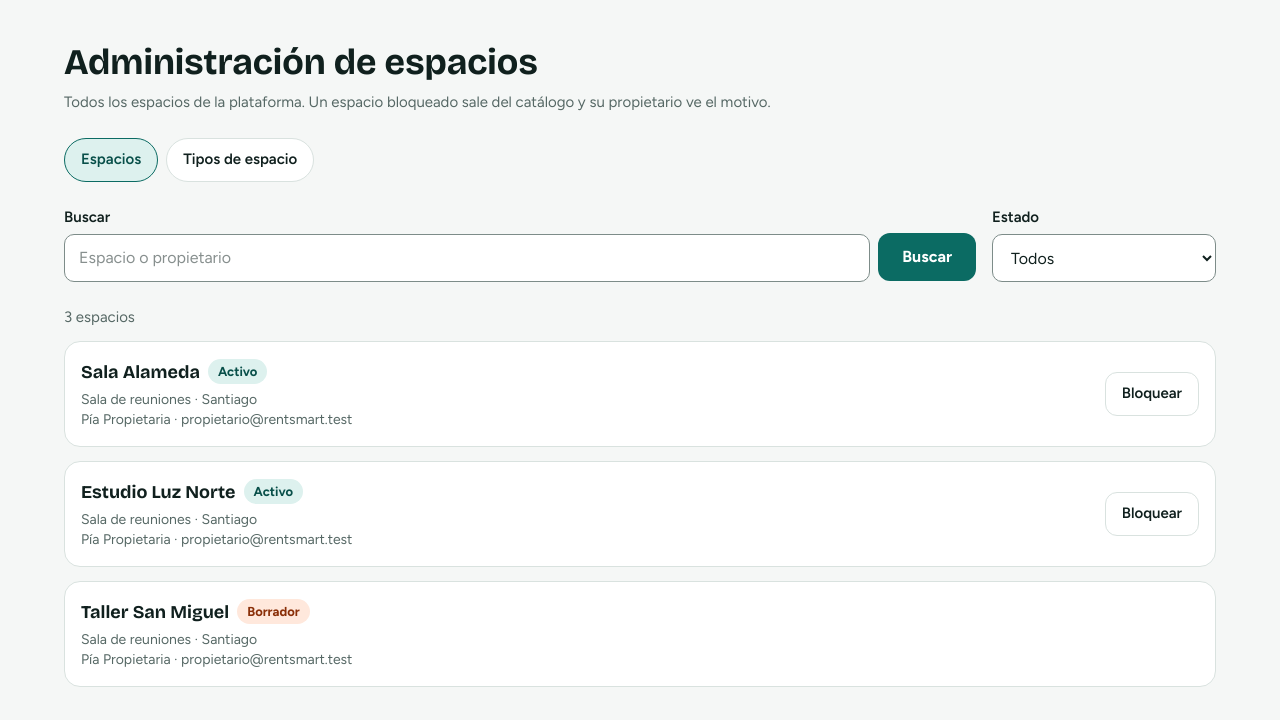
Test case: AdminSpacesPage (AD-02) › bloquear › pide un motivo y bloquea: la fila pasa a Bloqueado con su motivo
Click the button with aria-label "Bloquear Sala Alameda" at {"x": 1152, "y": 394}, box left=1105, top=372, right=1199, bottom=416
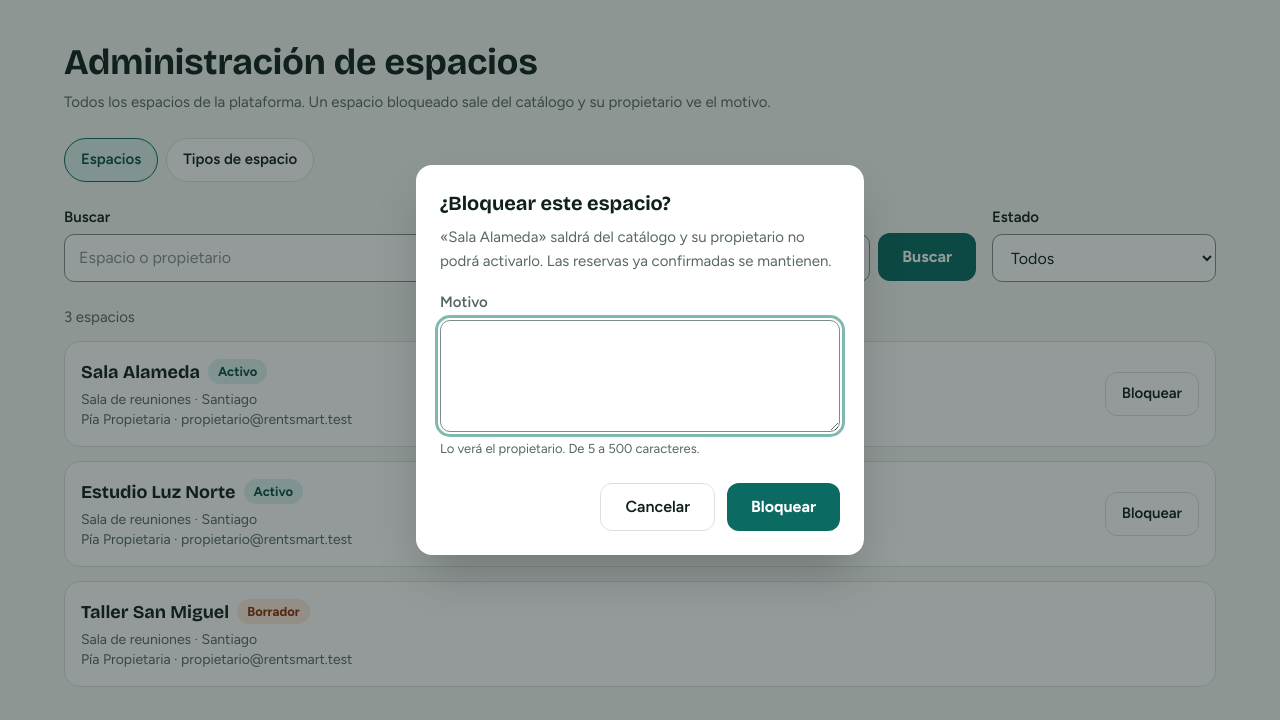
Type "Las fotos no corresponden al espacio" into the text box labelled "Motivo" at {"x": 640, "y": 376}, box left=440, top=320, right=840, bottom=432
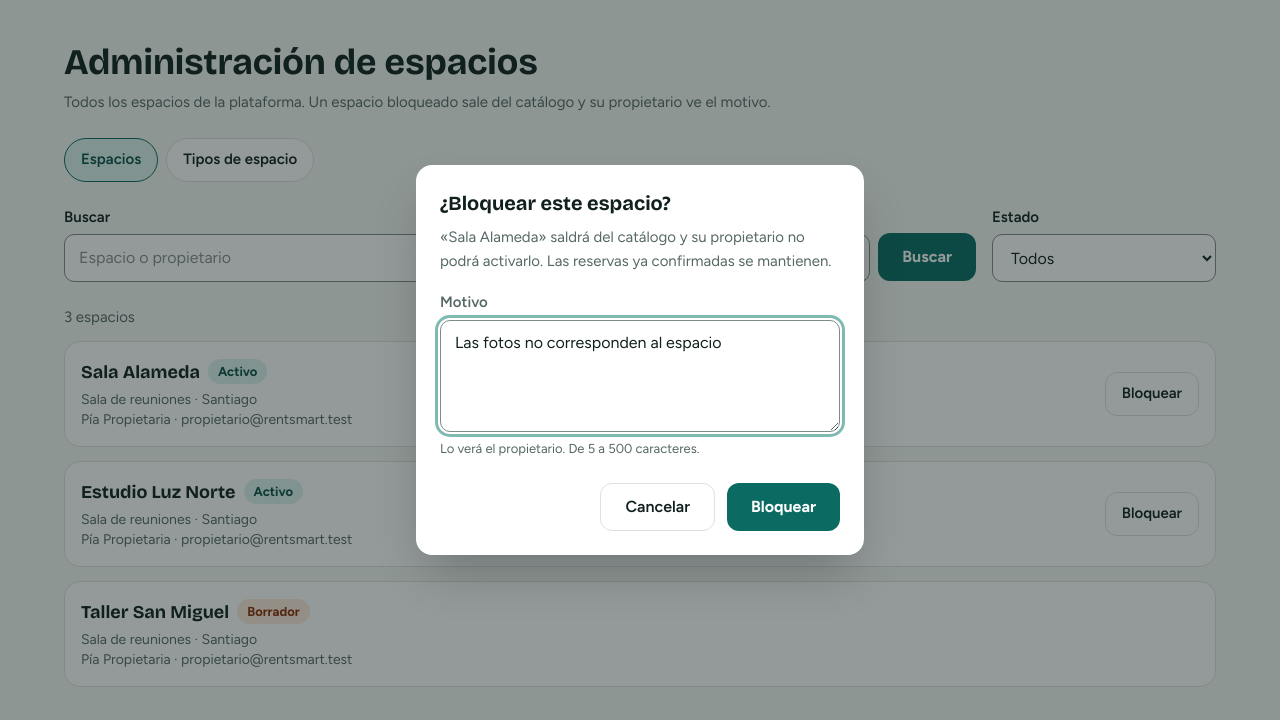
Click the button "Bloquear" at {"x": 784, "y": 507}, box left=727, top=483, right=840, bottom=531
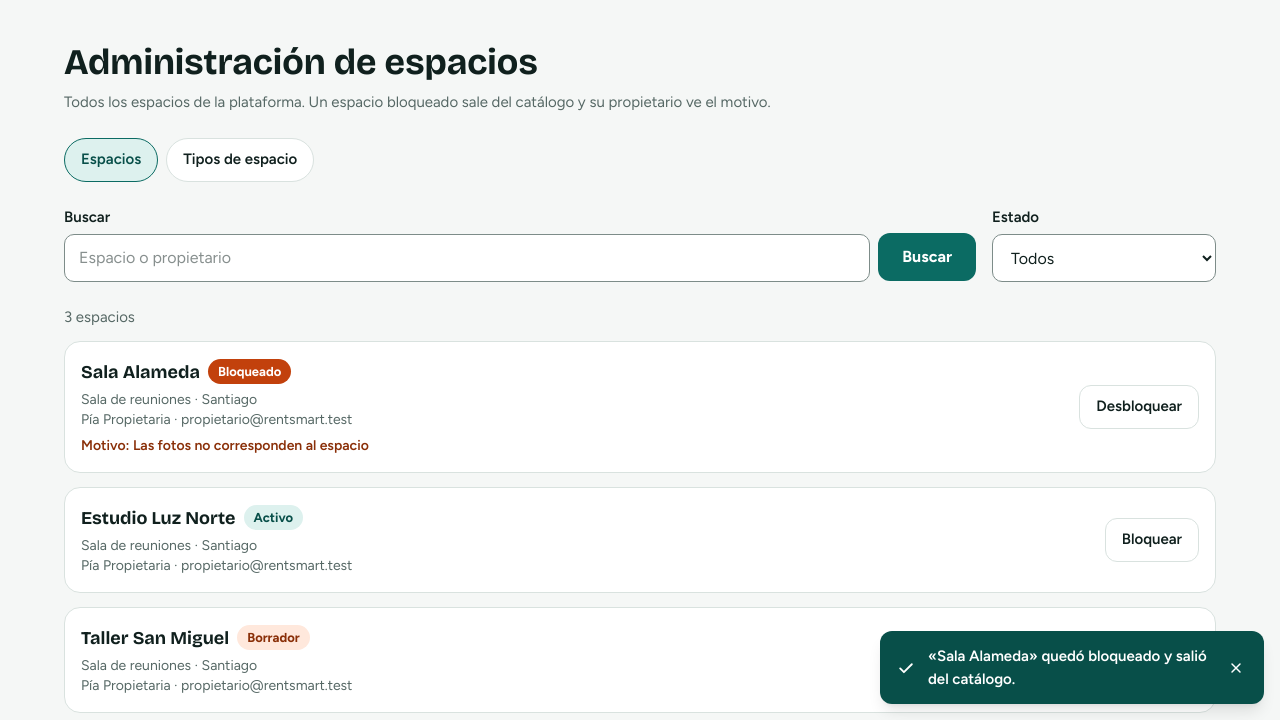
Now the text "Bloqueado" is shown, box left=208, top=359, right=291, bottom=384
Now the text "Motivo: Las fotos no corresponden al espacio" is shown, box left=81, top=436, right=369, bottom=454
Now the button with aria-label "Desbloquear Sala Alameda" is shown, box left=1079, top=384, right=1199, bottom=428
